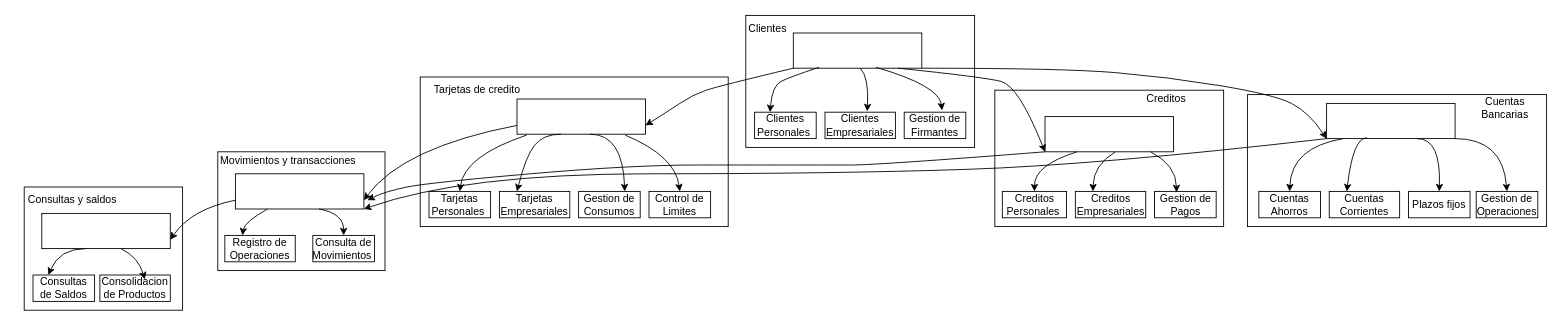
The diagram is 1562 pixels wide and 326 high, and some of its shapes have lost their labels. The shapes that lost their labels are listed below. From the top down, each one's centre as x and y in pixels, then its label:
[857,50]: MICROSERVICIO DE CLIENTE
[580,116]: MICROSERVICIO DE TARJETAS
[1108,134]: MICROSERVICIO DE CREDITOS
[1390,121]: MICROSERVICIO DE CUENTAS
[299,191]: MICROSERVICIO DE MOVIMIENTOS
[105,231]: MICROSERVICIO DE CONSULTAS
